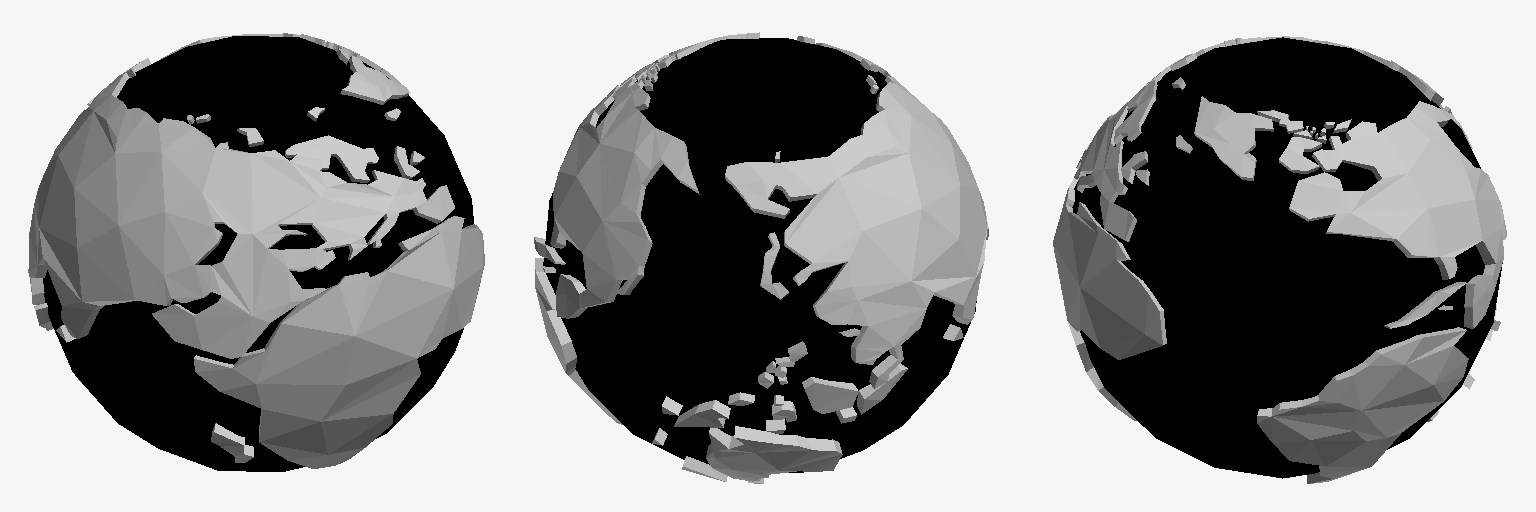
File: globe.obj
3 renders of one model, left to right at view 1: azimuth 30°, elevation 25°; view 2: azimuth 150°, elevation 25°; view 3: azimuth 270°, elevation 25°, orthographic.
Visible parts, largest first — view 1: GeoSphere004.001, GeoSphere004.000_GeoSphere004.002; view 2: GeoSphere004.000_GeoSphere004.002, GeoSphere004.001; view 3: GeoSphere004.000_GeoSphere004.002, GeoSphere004.001.
Part boxes in pixels (x1,y1,x2,y2): GeoSphere004.001: (28,33,484,468); GeoSphere004.000_GeoSphere004.002: (43,36,473,471); GeoSphere004.000_GeoSphere004.002: (543,38,976,472); GeoSphere004.001: (534,32,988,483); GeoSphere004.000_GeoSphere004.002: (1072,37,1502,478); GeoSphere004.001: (1053,36,1506,483).
Bounding box in the file's own units: 91.79 × 89.89 × 92.59.